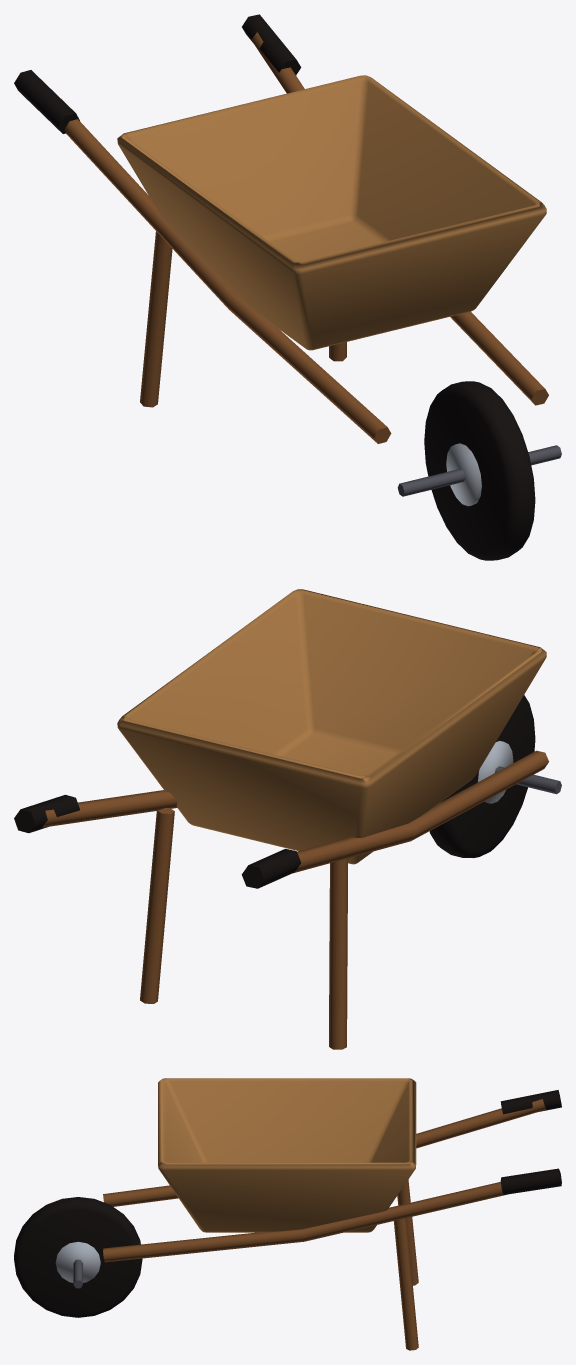
The model's file is wheelbarrow.glb.
The picture shows the model from 3 angles, top to bottom: view 1: azimuth 30°, elevation 25°; view 2: azimuth 150°, elevation 25°; view 3: azimuth 270°, elevation 25°; orthographic projection. The views are drawn at different scales.
Visible parts, largest first — view 1: wheelbarrow; view 2: wheelbarrow; view 3: wheelbarrow.
Boxes of the visible parts, x1,y1,x2,y2 form: wheelbarrow: (14, 14, 561, 560); wheelbarrow: (14, 589, 561, 1049); wheelbarrow: (14, 1078, 561, 1350).
Size of the model in its own units: 0.6425 by 0.6713 by 1.71.
